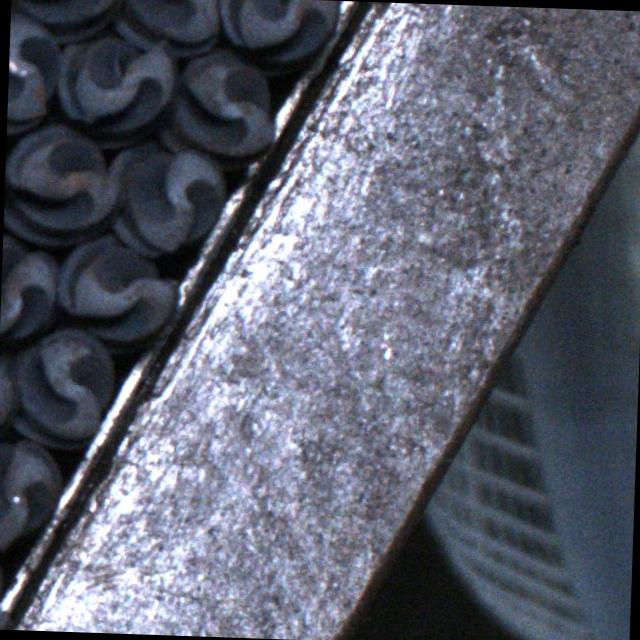tool_b: (2, 122, 128, 250), (54, 230, 176, 354), (103, 138, 224, 258), (56, 32, 176, 148), (8, 324, 114, 451), (156, 44, 275, 157), (215, 0, 337, 75), (0, 232, 59, 352), (6, 15, 64, 136), (0, 437, 59, 551), (114, 0, 224, 56)
